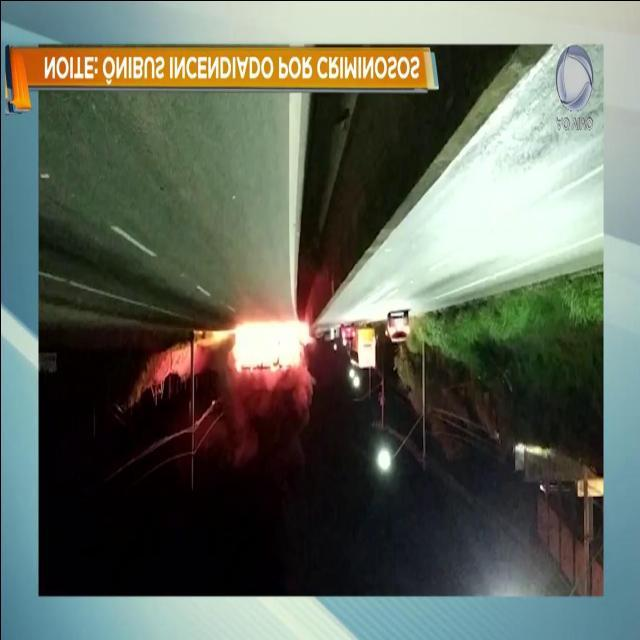Fire: (226, 322, 310, 378)
